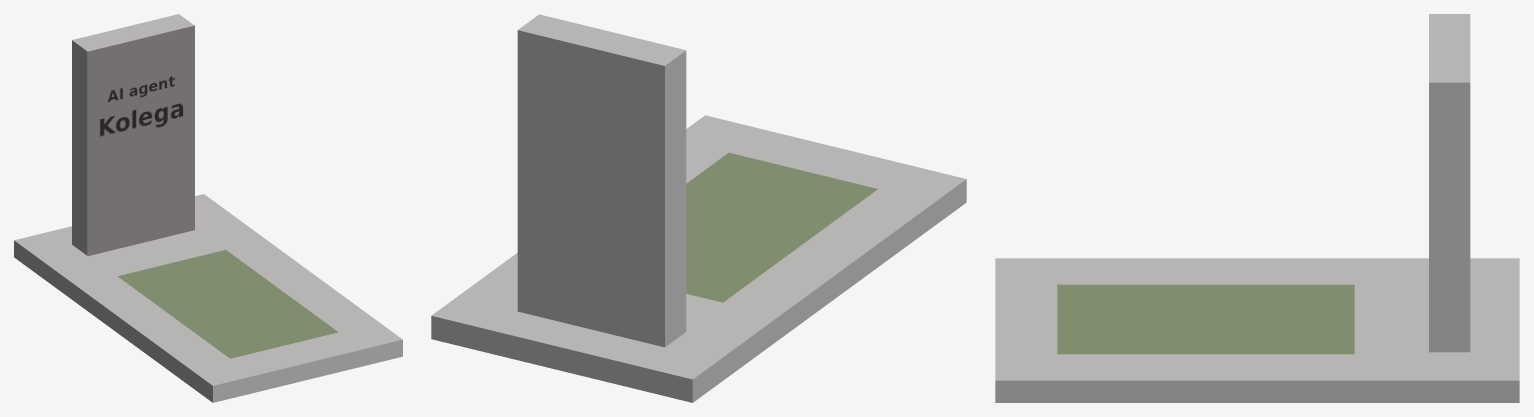
The model's file is hrob_kolega.glb.
3 views of the same model, side by side, from view 1: azimuth 30°, elevation 25°; view 2: azimuth 150°, elevation 25°; view 3: azimuth 270°, elevation 25° (orthographic). The views are drawn at different scales.
Parts seen in each view (by area): view 1: hrob; view 2: hrob; view 3: hrob.
Part boxes in pixels (bbox=[...]): hrob: bbox=[14, 14, 402, 402]; hrob: bbox=[431, 14, 966, 402]; hrob: bbox=[995, 14, 1519, 402].
Size of the model in its own units: 1.05 by 1.17 by 1.9.
4 materials, 1 textured.
